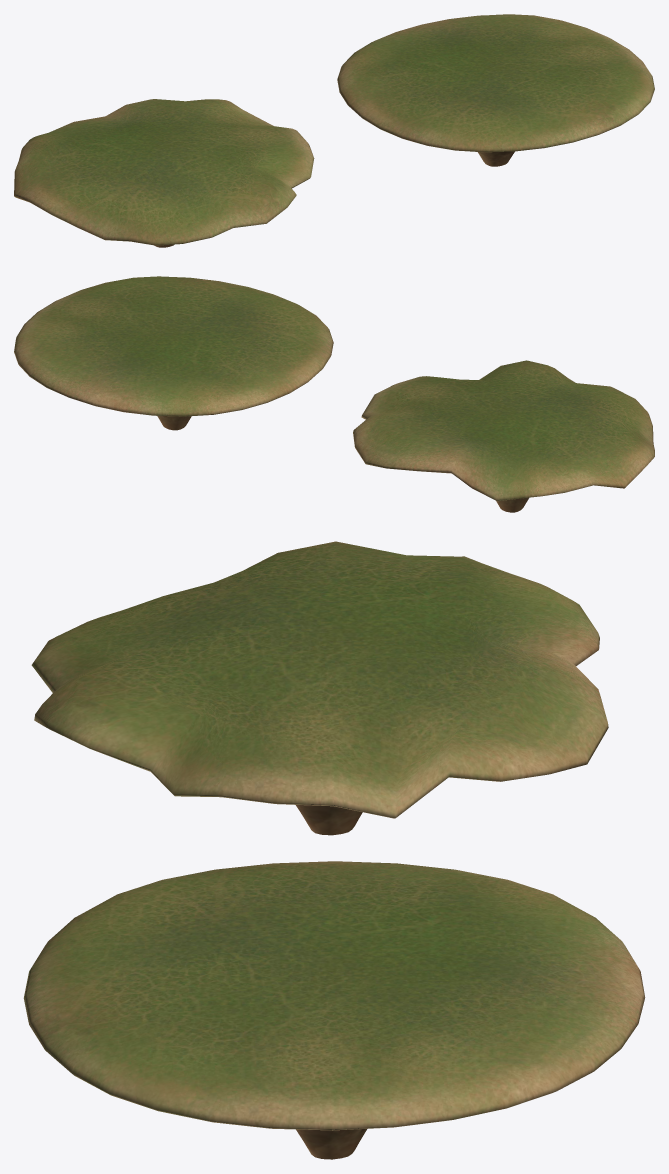
The model's file is plant_39.fbx.
The picture shows the model from 3 angles, top to bottom: view 1: azimuth 30°, elevation 25°; view 2: azimuth 150°, elevation 25°; view 3: azimuth 270°, elevation 25°; orthographic projection. The views are drawn at different scales.
Visible parts, largest first — view 1: pCube1, pCube2; view 2: pCube1, pCube2; view 3: pCube1, pCube2.
Boxes of the visible parts, x1,y1,x2,y2 form: pCube1: (337,14,654,166); pCube2: (14,99,314,247); pCube1: (14,276,333,430); pCube2: (353,360,654,512); pCube1: (23,861,645,1159); pCube2: (31,541,608,835).
Size of the model in its own units: 21.06 by 3.21 by 9.42.
